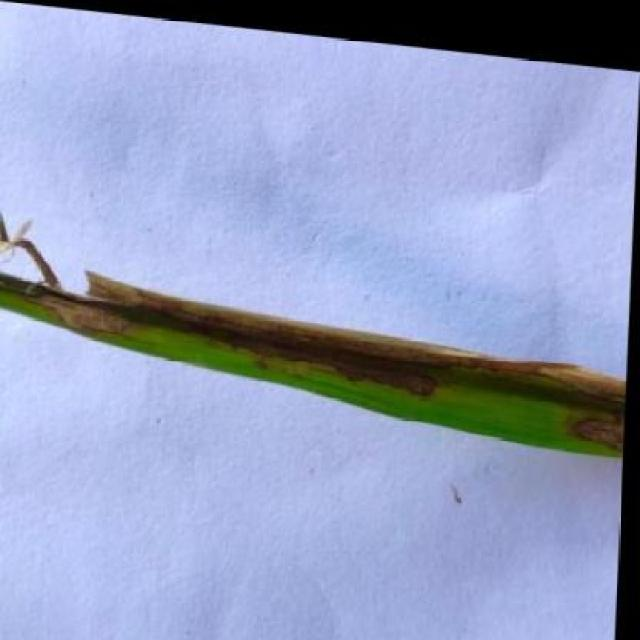Brown_Spot: (0, 214, 632, 447)
